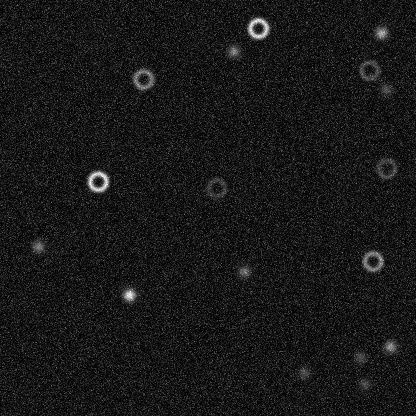Ring: (85, 169, 109, 193), (204, 175, 228, 199), (360, 249, 384, 273), (131, 67, 155, 91), (374, 156, 398, 180), (246, 16, 270, 40), (357, 58, 381, 82)
Spot: (121, 286, 137, 302), (356, 375, 372, 391), (377, 81, 393, 97), (373, 24, 389, 40), (235, 263, 251, 279), (381, 338, 397, 354), (295, 364, 311, 380), (30, 238, 46, 254), (225, 43, 241, 59), (352, 349, 368, 365)
